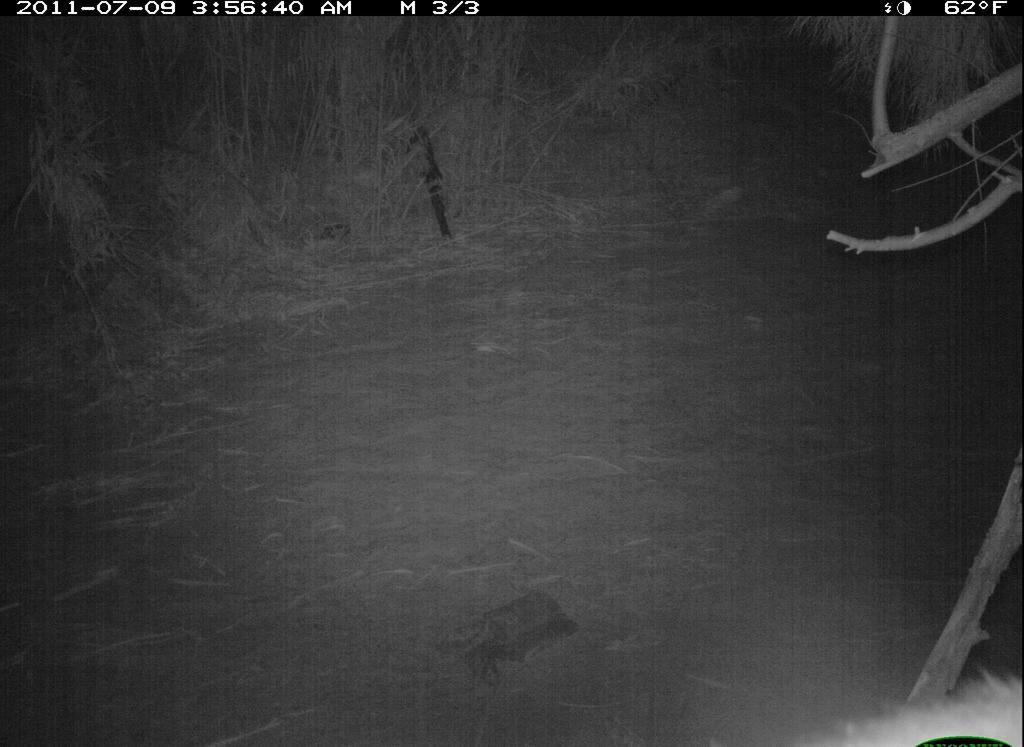raccoon: (776, 668, 1024, 747)
